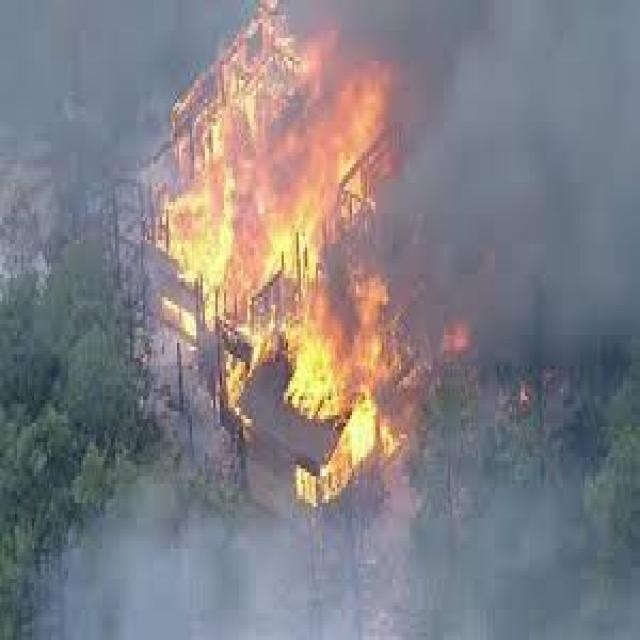Fire: (154, 11, 391, 509), (160, 290, 202, 348), (224, 349, 252, 418)
Smoke: (0, 0, 640, 370), (28, 493, 640, 640)
